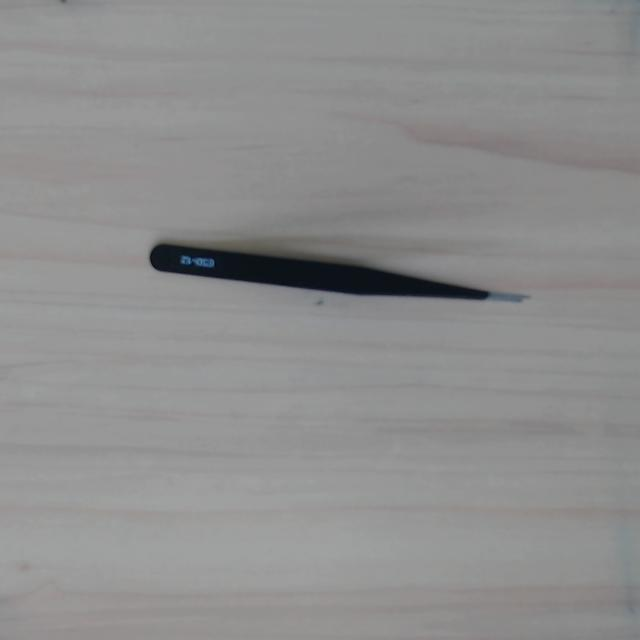Tweezers: (148, 241, 528, 313)
